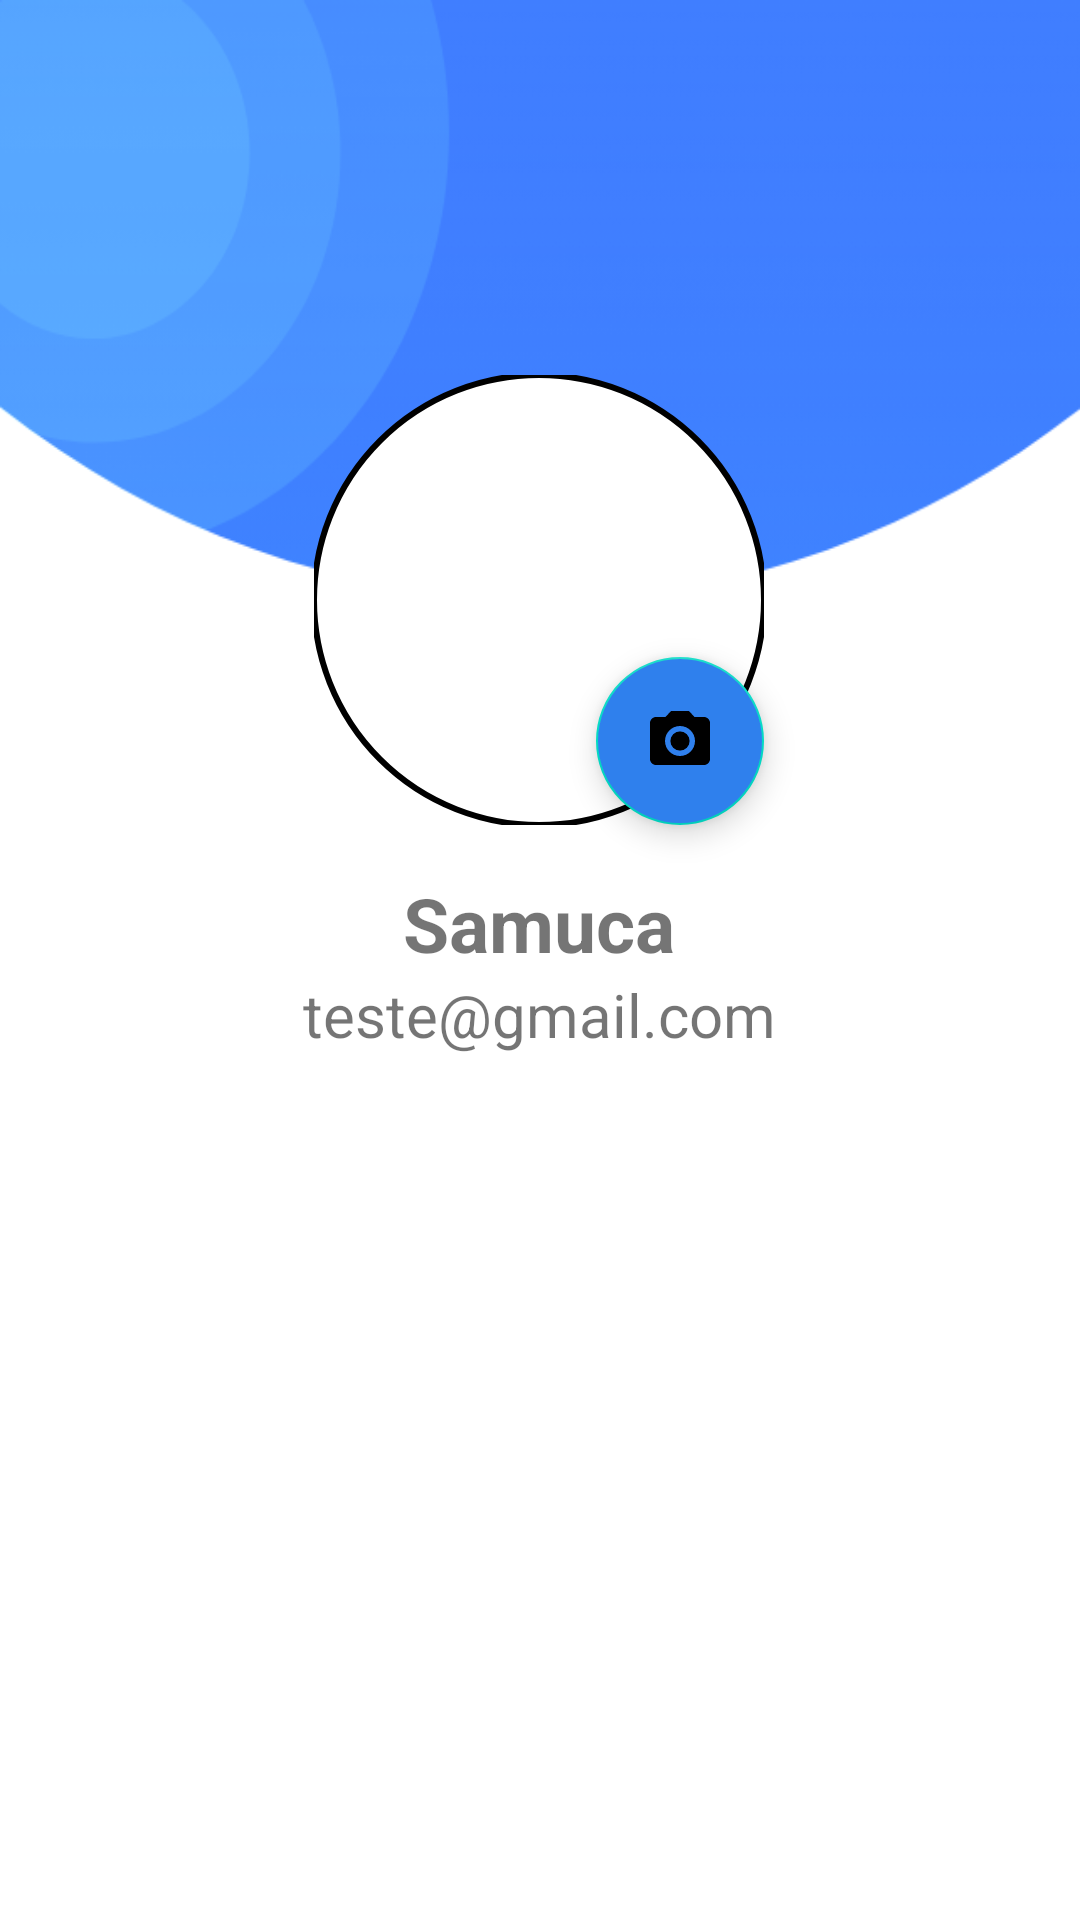

Icon bounding boxes for this 1080 × 1920 phone screenshot, format BBox(x1, y1, x2, y2):
photo camera: BBox(596, 657, 764, 825)
